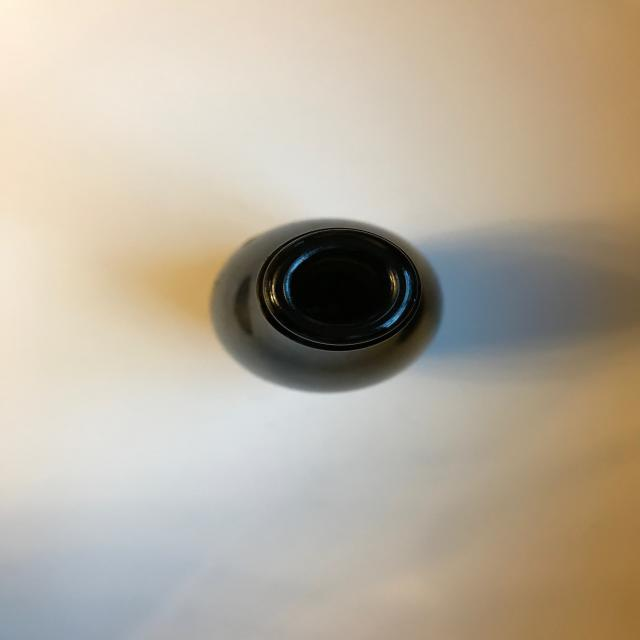glass: (204, 216, 450, 394)
